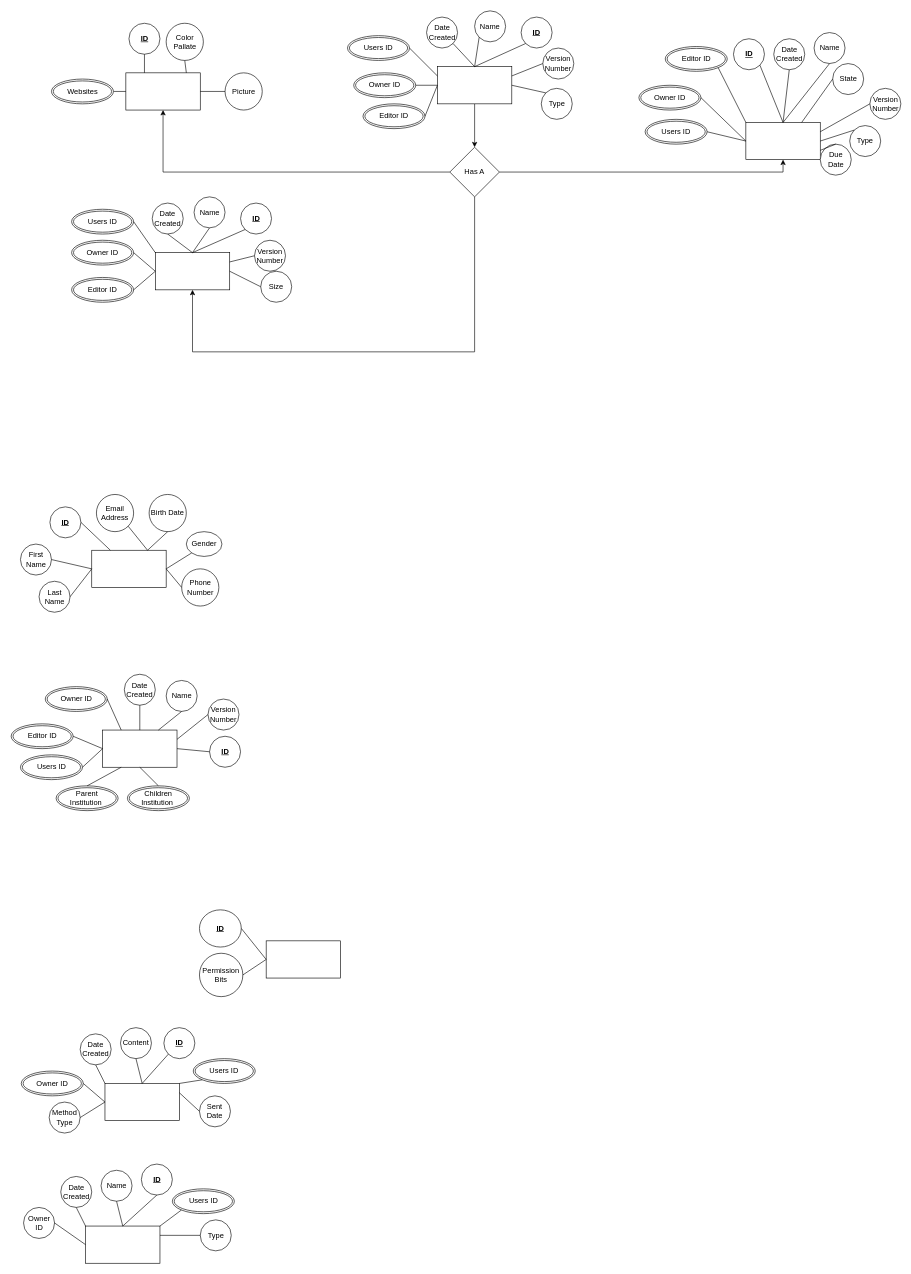
Some shapes in this 911 by 1274 pixel diagram are drawn without their labels. Each missing label, with the box of its shape:
Course: (437, 66, 512, 104)
Generator: (85, 1225, 160, 1263)
Institution: (102, 729, 177, 767)
Metadata: (125, 72, 200, 110)
Notification: (104, 1083, 179, 1121)
Permission: (266, 940, 341, 978)
Resources: (155, 252, 230, 290)
Task: (745, 122, 820, 160)
User: (91, 550, 166, 587)
